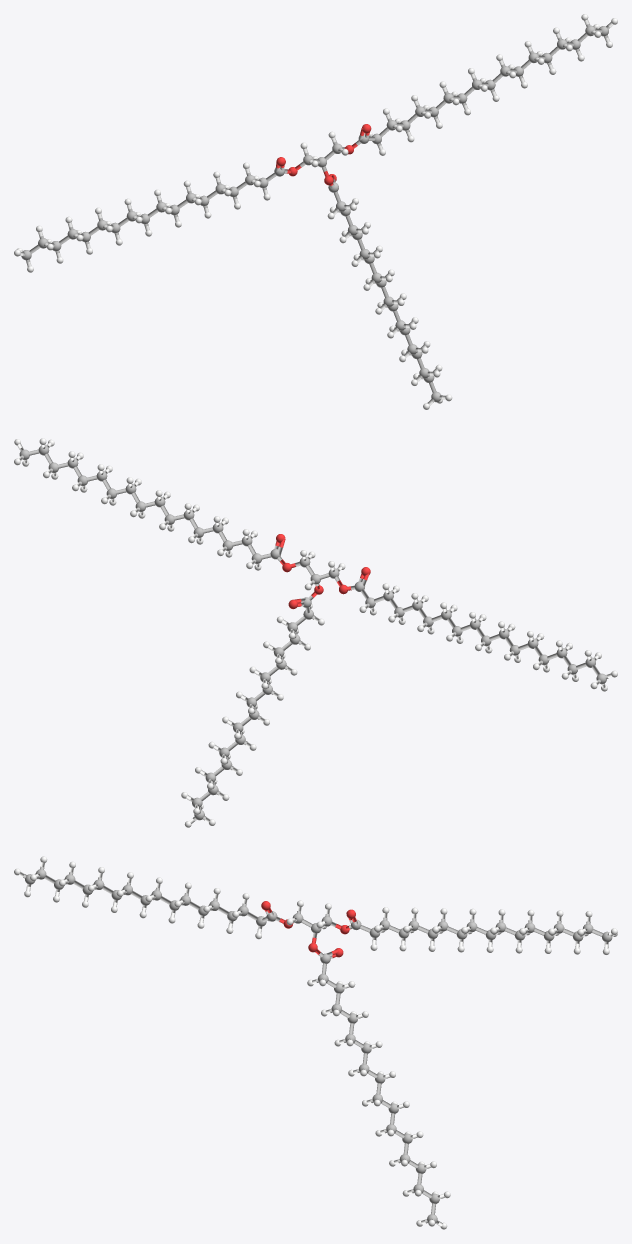
The model's file is Lop10_Lipid và phospholipid_Tab1_triacylglycerol_tristearate.glb.
3 views of the same model, one above another, from view 1: azimuth 30°, elevation 25°; view 2: azimuth 150°, elevation 25°; view 3: azimuth 330°, elevation 25° (orthographic).
Parts seen in each view (by area): view 1: triacylglycerol_0; view 2: triacylglycerol_0; view 3: triacylglycerol_0.
Part boxes in pixels (x1,y1,x2,y2): triacylglycerol_0: (14,14,617,409); triacylglycerol_0: (14,438,617,827); triacylglycerol_0: (14,856,617,1229).
Bounding box in the file's own units: 51.4 × 28.8 × 4.16.
